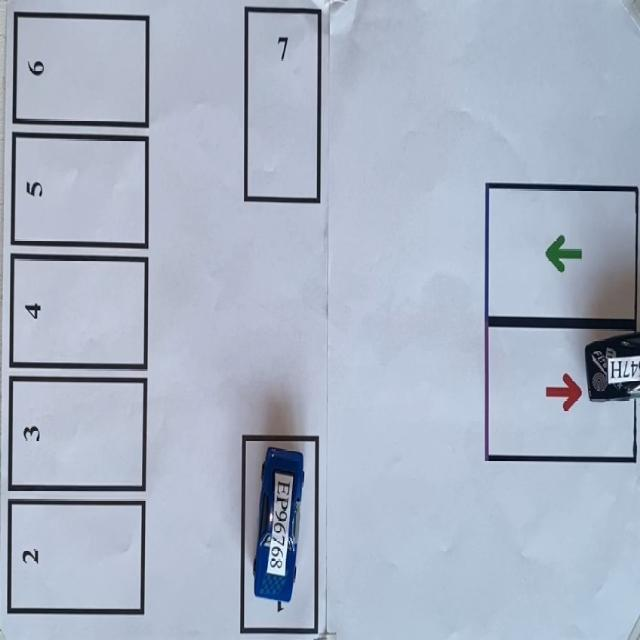car: (254, 448, 303, 610), (585, 332, 639, 400)
